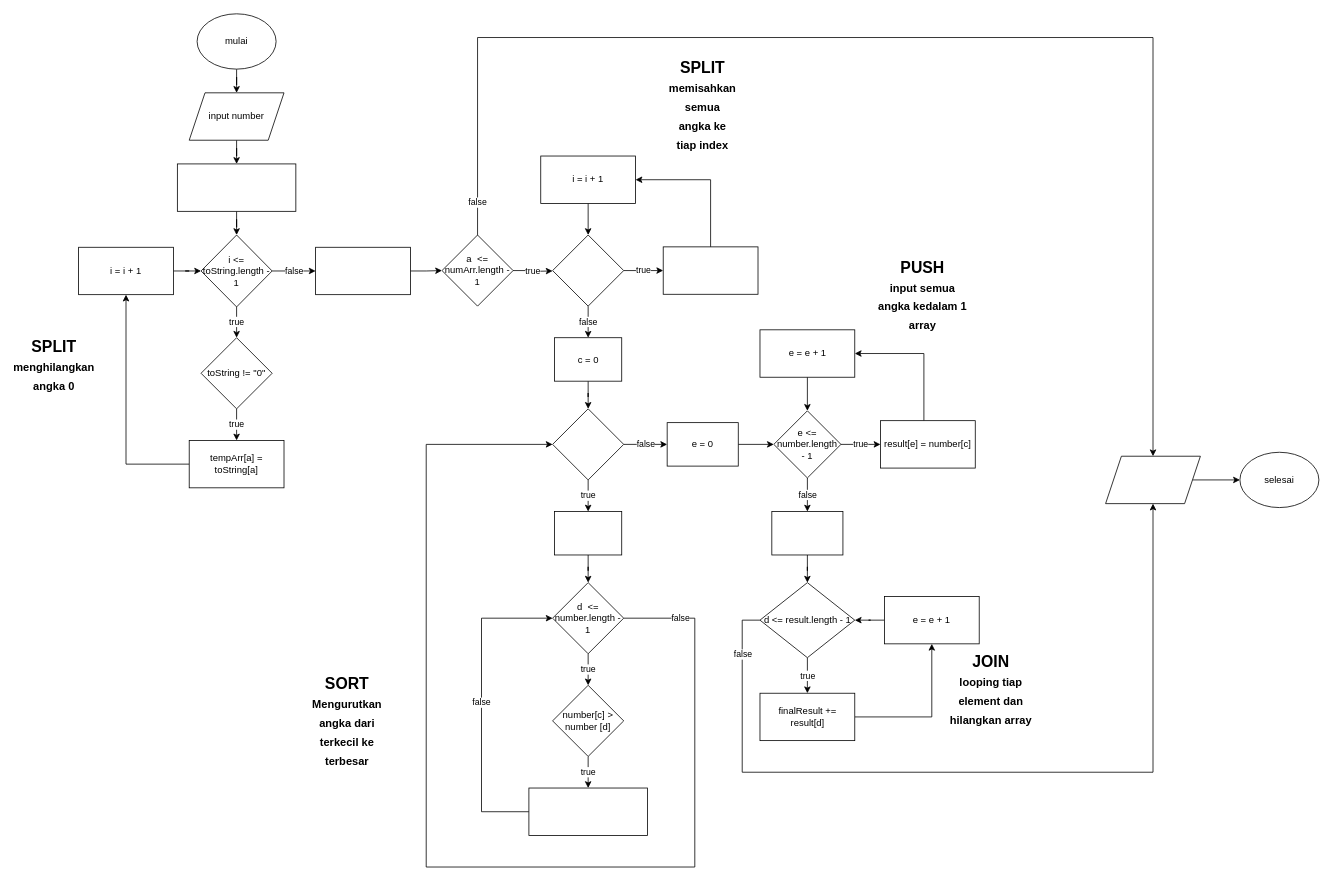
Image size: 1333x887. Some labels were removed from this diagram. The shapes that lost their labels are listed below. From the top down, each one's centre as x and y in pixels, then its label:
(x=236, y=187): toString = "" + number + "", tempArr = []; a = 0
(x=362, y=270): result = [], number = [], i = 0
(x=588, y=270): b <= numArr.length - 1
(x=710, y=270): number[b] = numArr[b]
(x=588, y=444): c <= number.length - 1
(x=1152, y=479): output finalResult
(x=588, y=533): d = 0
(x=807, y=533): finalResult = 0; d = 0
(x=587, y=811): tempNumber = number[c], number[c] = number[d], number[d] = tempNumber
